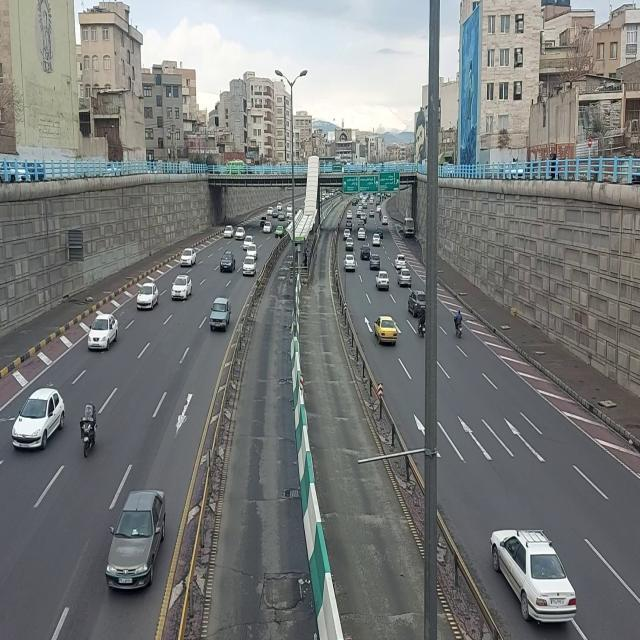Car: (490, 528, 578, 631), (105, 488, 169, 594), (12, 385, 68, 453), (88, 310, 120, 355), (208, 296, 234, 332), (373, 315, 399, 349), (170, 271, 194, 304), (137, 281, 161, 313), (407, 290, 425, 316), (220, 249, 236, 273), (180, 247, 197, 267), (375, 270, 391, 290), (397, 267, 411, 289), (344, 254, 356, 273)
Motorcycle: (79, 401, 99, 461), (417, 303, 427, 343), (454, 307, 464, 341)
